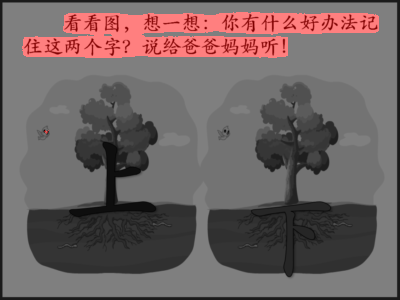text: (65, 13, 377, 32), (24, 36, 289, 55)
